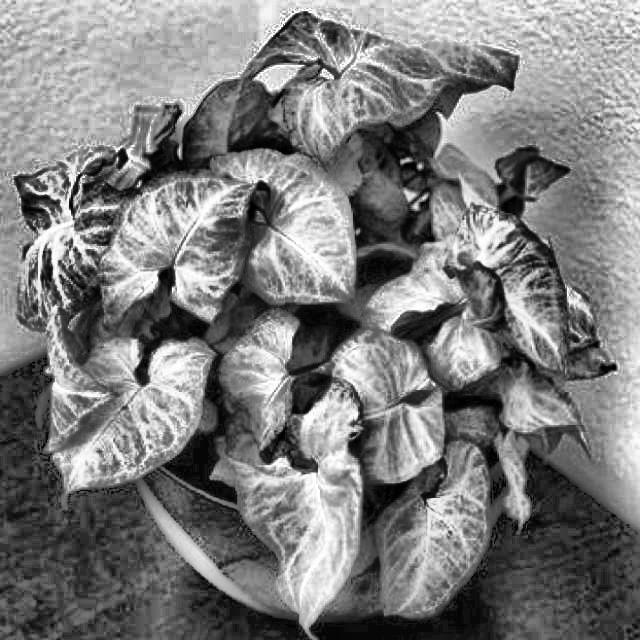plants: (74, 88, 526, 512)
